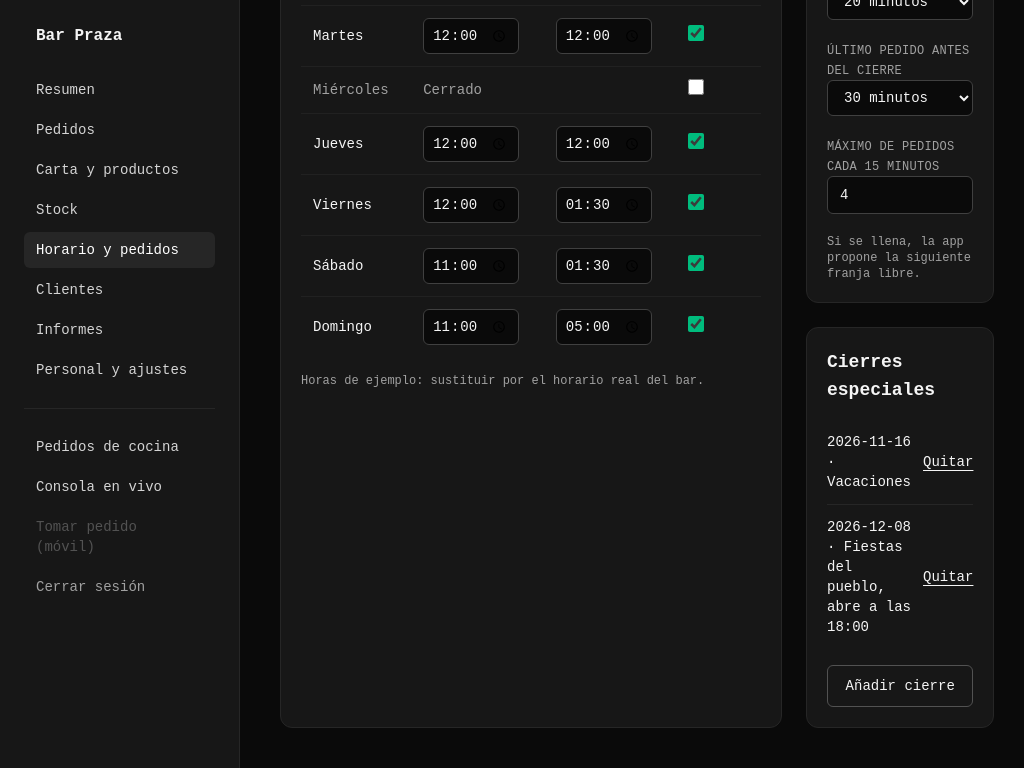
Scenario: SchedulePage edge cases › tells the user when removing a closure fails and keeps it
(page scrolled)
What coordinates should you click on to do the following:
click the button "Quitar" below "2026-11-16"
I would click on:
 (948, 462)
Its box is left=923, top=452, right=973, bottom=472.
(page scrolled)
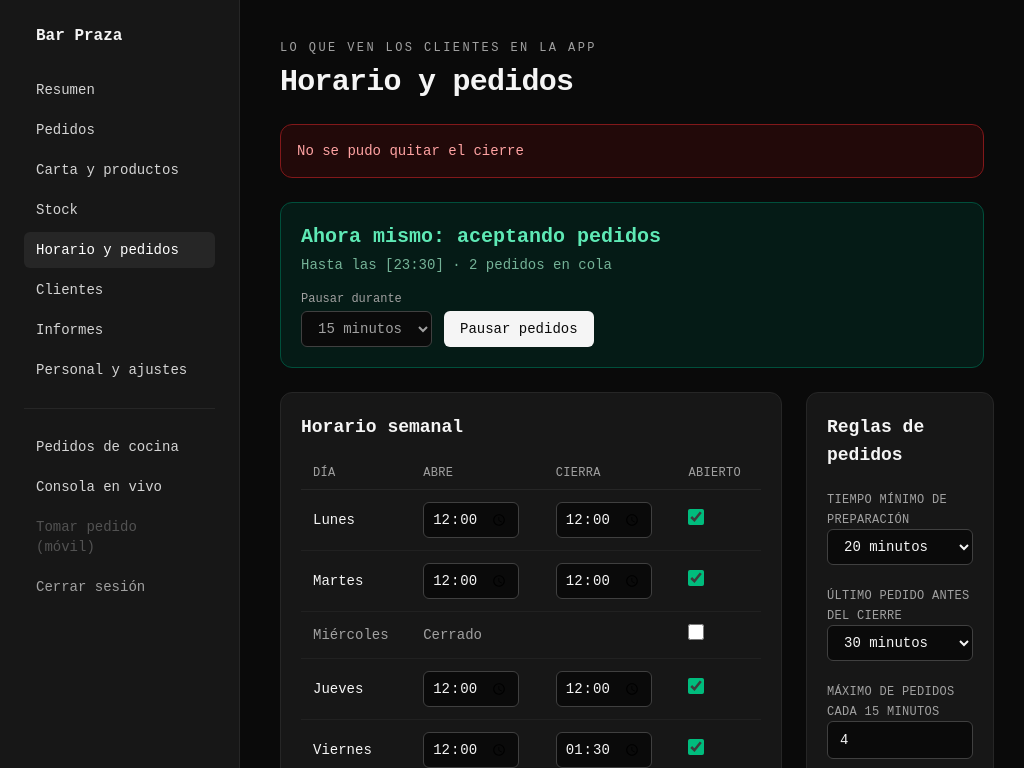
Result: the message reads "No se pudo quitar el cierre" at left=297, top=143, right=524, bottom=159
